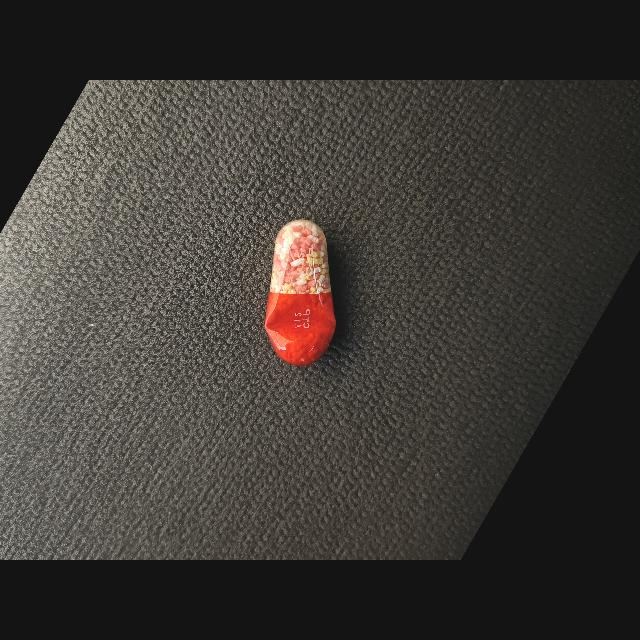Defective Capsule: (265, 219, 336, 366)
